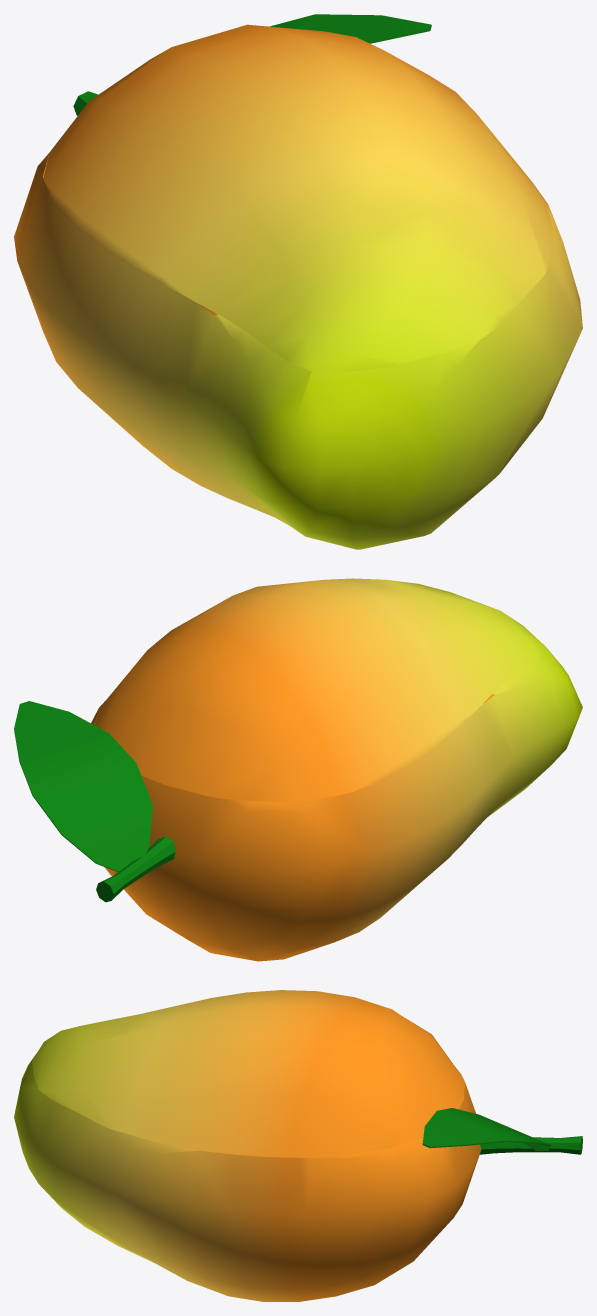
Rendered from Mango_With_Pieces.fbx.
3 views of the same model, one above another, from view 1: azimuth 30°, elevation 25°; view 2: azimuth 150°, elevation 25°; view 3: azimuth 270°, elevation 25° (orthographic). The views are drawn at different scales.
Parts seen in each view (by area): view 1: Cut_Pieces, Mango; view 2: Mango, Cut_Pieces; view 3: Mango, Cut_Pieces.
Part boxes in pixels (left/top/right/bottom): Cut_Pieces: left=43, top=24, right=553, bottom=371; Mango: left=14, top=14, right=582, bottom=549; Mango: left=14, top=647, right=582, bottom=961; Cut_Pieces: left=95, top=578, right=545, bottom=801; Mango: left=14, top=1053, right=582, bottom=1301; Cut_Pieces: left=32, top=990, right=465, bottom=1157.
Bounding box in the file's own units: 61.48 × 55.87 × 99.31.
1 material, 1 textured.
